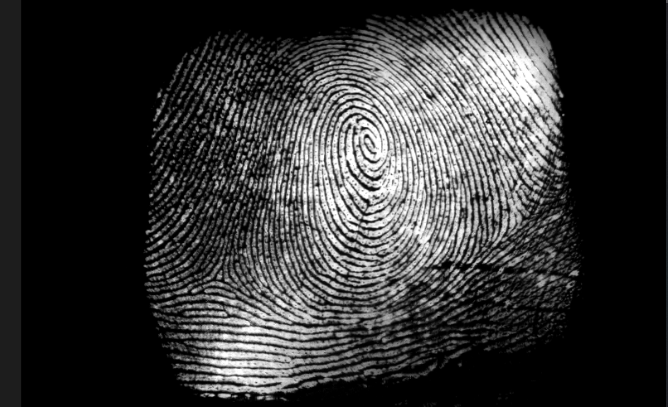nucelo: (351, 124, 386, 170)
verticilo: (506, 199, 540, 229), (206, 260, 232, 288)
